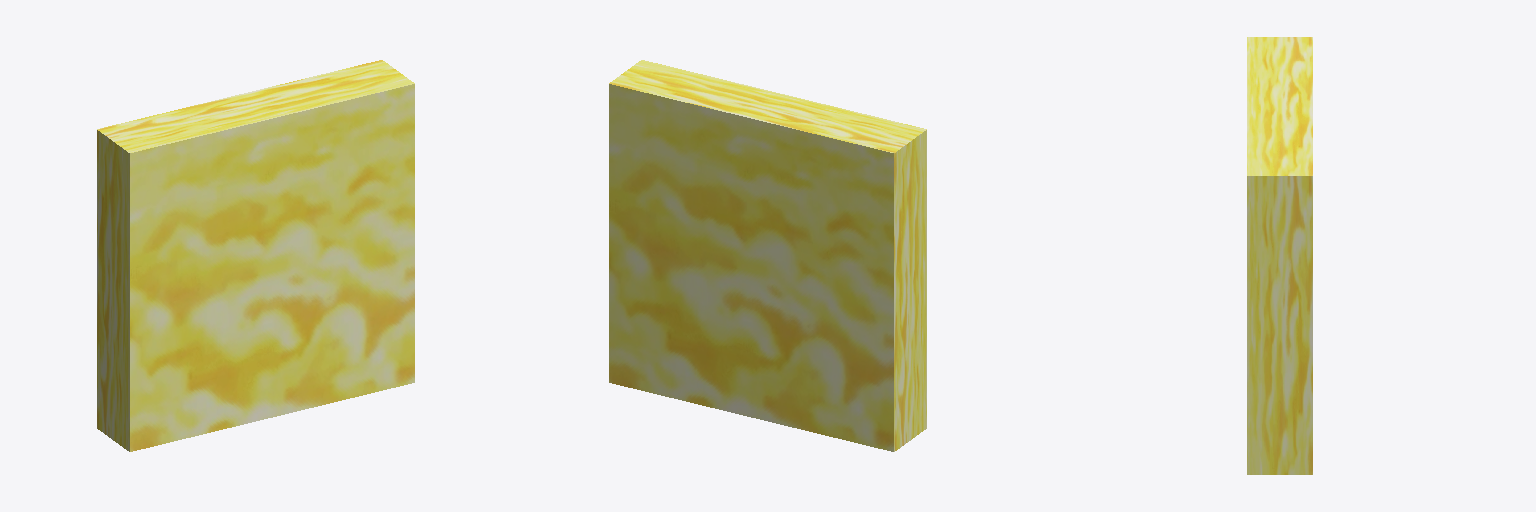
3 views of the same model, side by side, from view 1: azimuth 30°, elevation 25°; view 2: azimuth 150°, elevation 25°; view 3: azimuth 270°, elevation 25° (orthographic).
Visible parts, largest first — view 1: Object.1; view 2: Object.1; view 3: Object.1.
Part boxes in pixels (x1,y1,x2,y2): Object.1: (97, 60, 414, 451); Object.1: (609, 60, 926, 451); Object.1: (1247, 37, 1312, 474).
Size of the model in its own units: 0.9999 by 0.9999 by 0.2.
Materials: 1 (1 with a texture image).